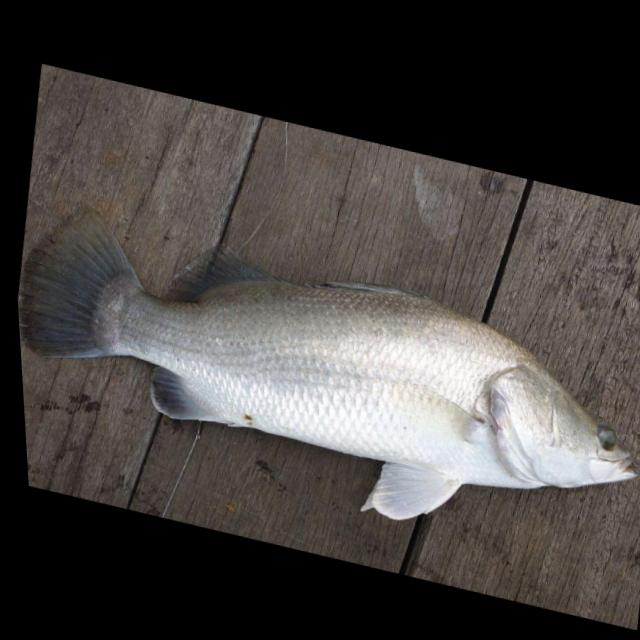Seabass: (11, 192, 640, 571)
